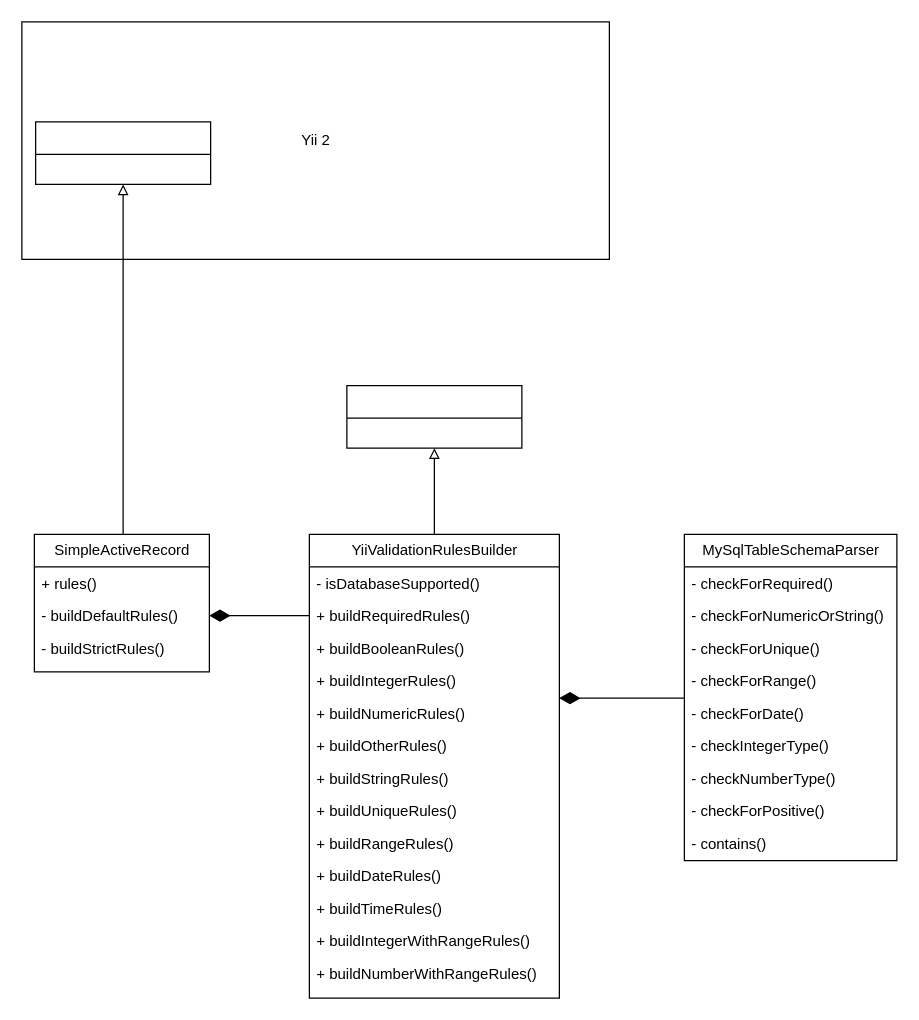
Image size: 919x1020. Some labels were removed from this diagram. The box of each missing label's shape, as (x1, y1, x2, y2) in pixels:
TableSchema: (346, 384, 522, 448)
yii\db\ActiveRecord: (34, 121, 211, 184)
